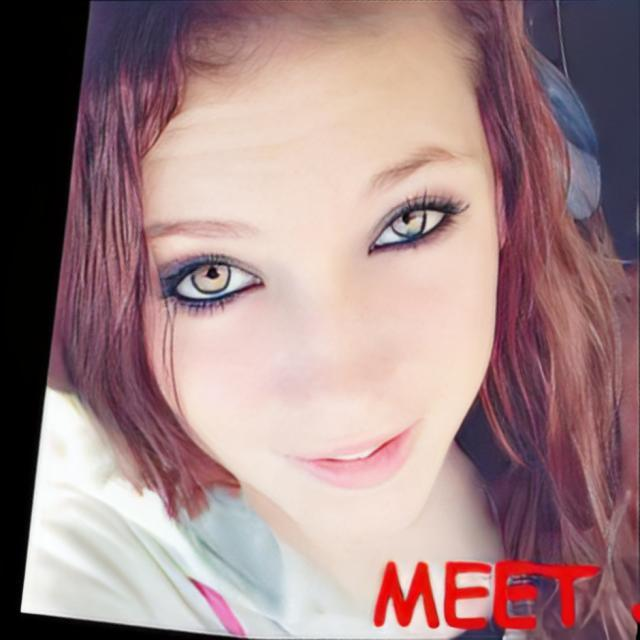happy: (130, 28, 503, 560)
